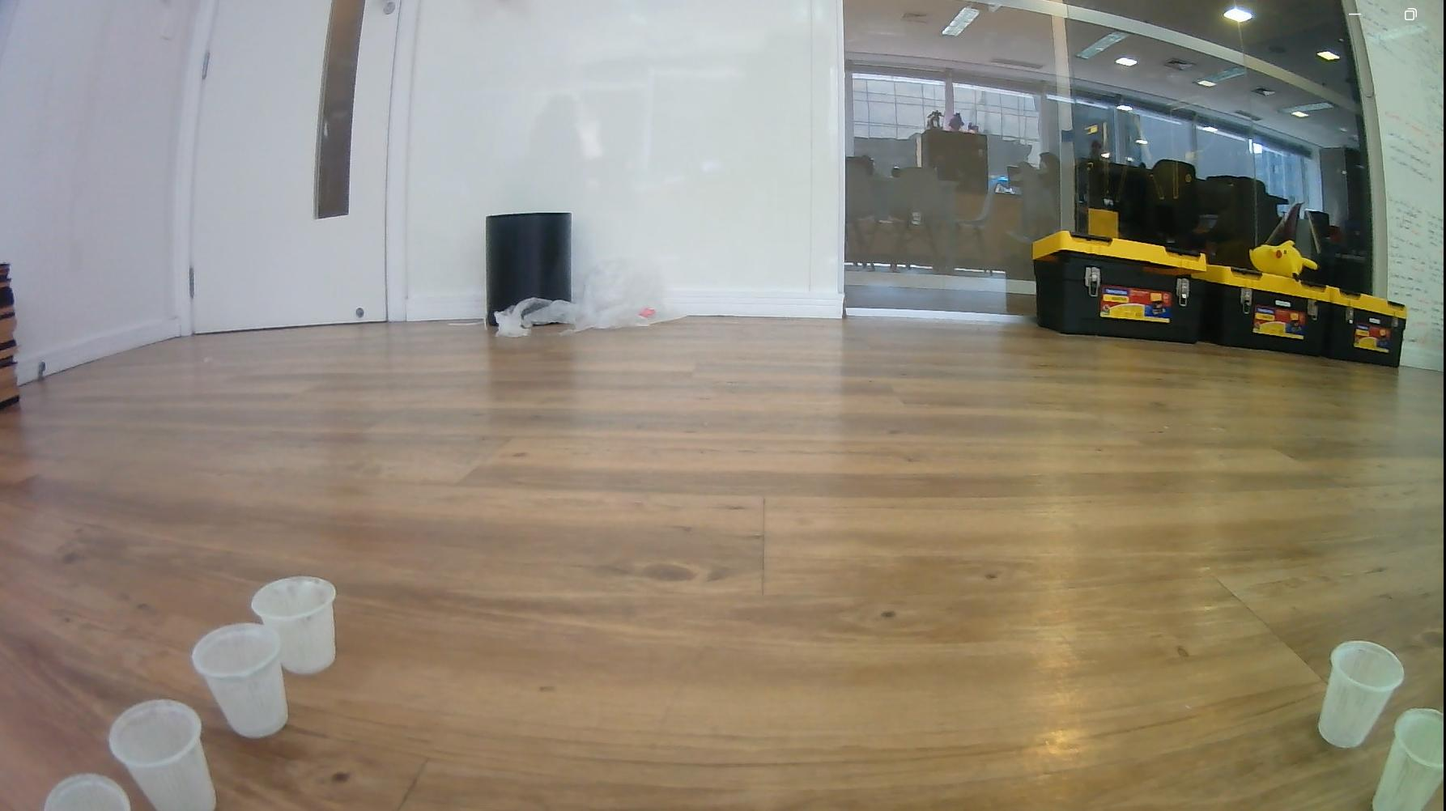planta: (108, 698, 219, 811), (190, 622, 289, 740), (1317, 639, 1406, 749), (250, 575, 338, 675), (1371, 707, 1446, 811), (43, 772, 133, 811)
